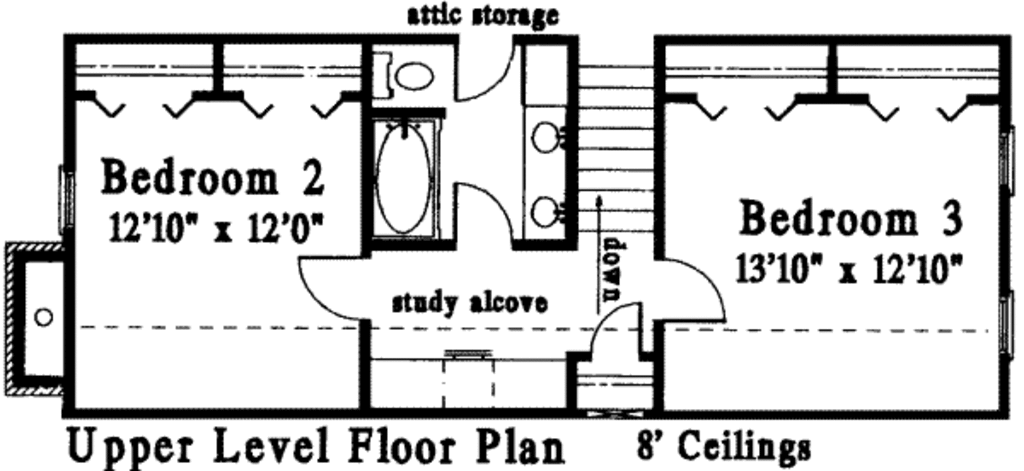door: (566, 295, 658, 370), (292, 246, 368, 325), (659, 254, 733, 332), (444, 174, 513, 248), (455, 25, 517, 107)
large_sink: (369, 43, 440, 108)
small_sink: (518, 95, 564, 239)
stairs: (577, 47, 656, 247)
tub: (374, 113, 441, 237)
window: (51, 159, 86, 235), (1000, 123, 1020, 196), (1001, 291, 1018, 357)
